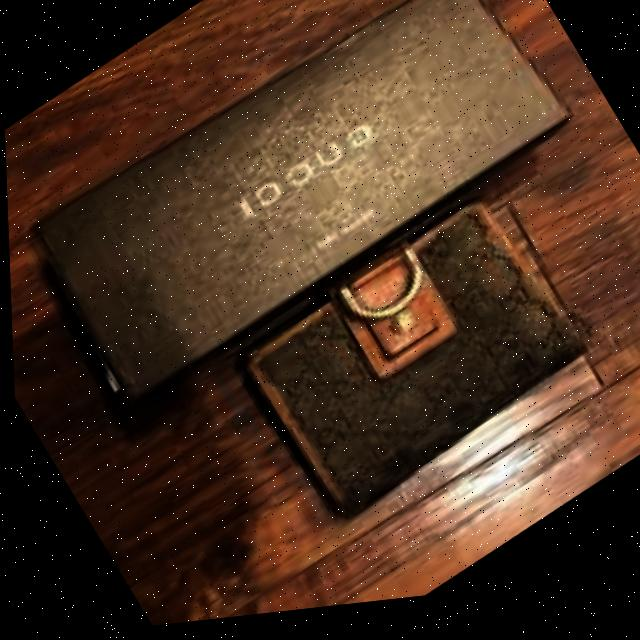cuzdan: (152, 165, 603, 578)
